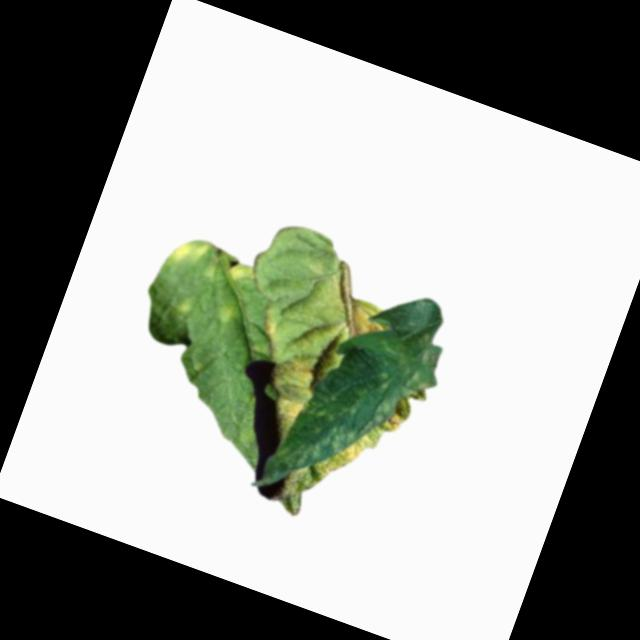Leaf_Mold: (309, 373, 416, 506), (255, 345, 324, 437), (333, 295, 393, 351), (247, 304, 291, 359), (167, 232, 213, 278), (221, 257, 257, 291), (210, 300, 245, 332)
